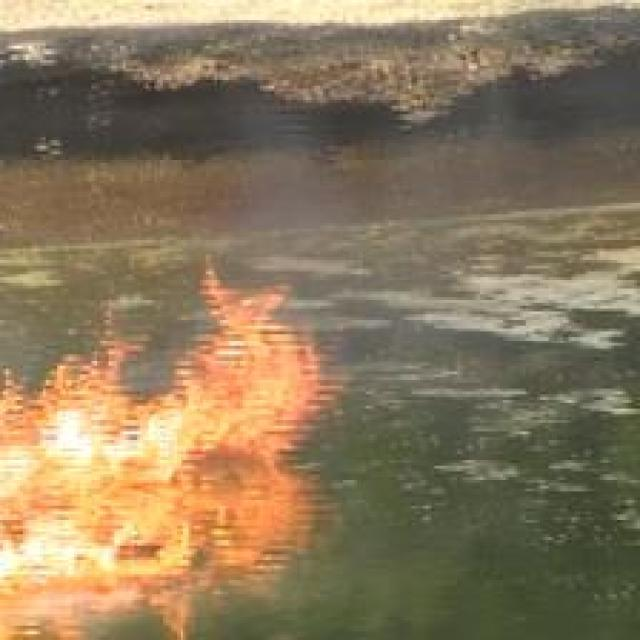Fire: (0, 252, 346, 638)
